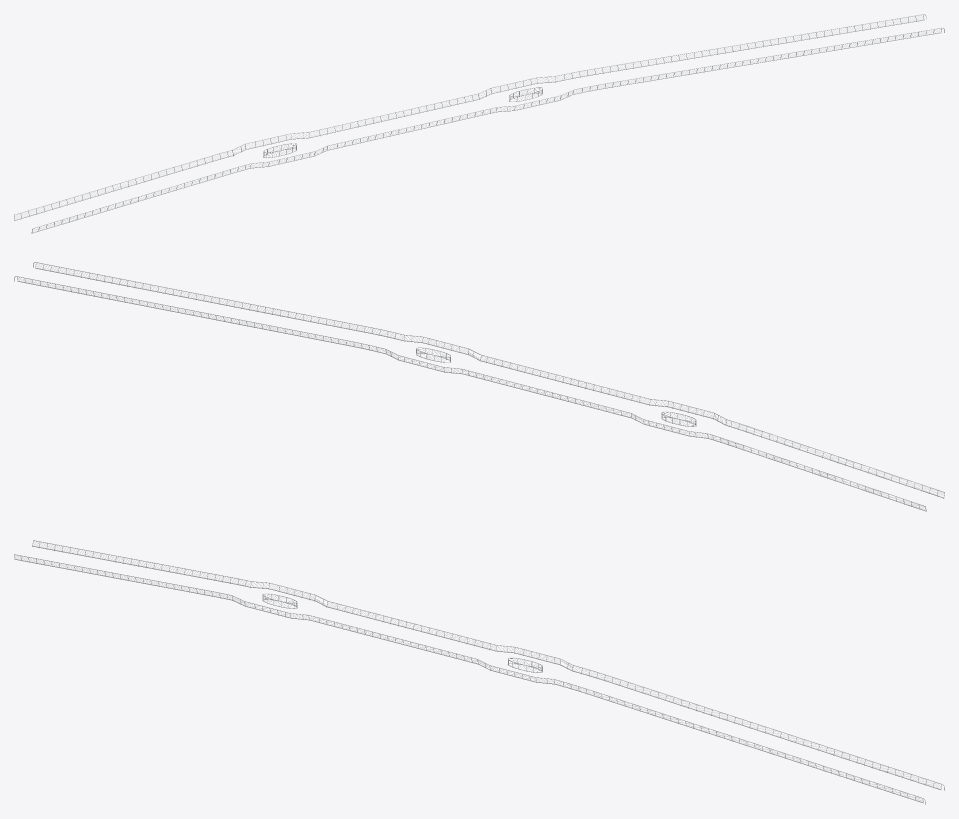
Rendered from SM_Ponte_Parapetti.fbx.
3 renders of one model, top to bottom at view 1: azimuth 30°, elevation 25°; view 2: azimuth 150°, elevation 25°; view 3: azimuth 330°, elevation 25°, orthographic. The views are drawn at different scales.
Visible parts, largest first — view 1: SM_Ponte_Parapetti; view 2: SM_Ponte_Parapetti; view 3: SM_Ponte_Parapetti.
Part boxes in pixels (box(x1,y1,x2,y2)): SM_Ponte_Parapetti: box(14, 14, 944, 233); SM_Ponte_Parapetti: box(14, 262, 944, 511); SM_Ponte_Parapetti: box(14, 540, 944, 804).
Size of what is drawn, in the model's own units: 17893 by 1170 by 541.
Materials: 2 (2 with a texture image).
